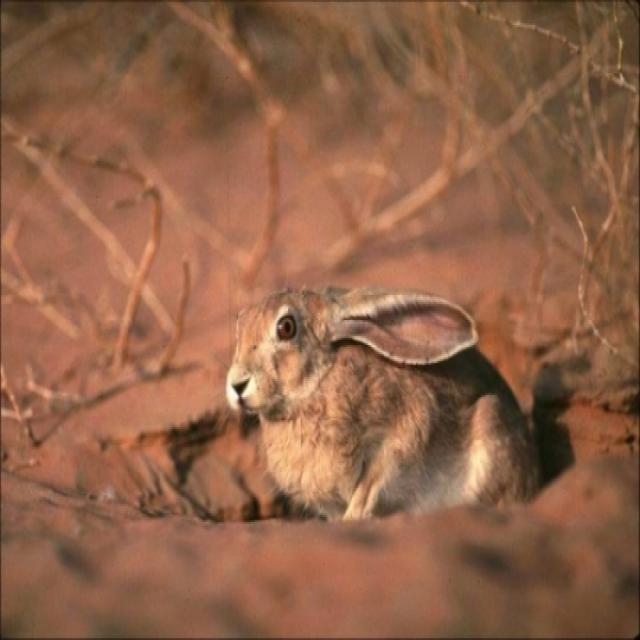rabbit: (195, 258, 561, 528)
